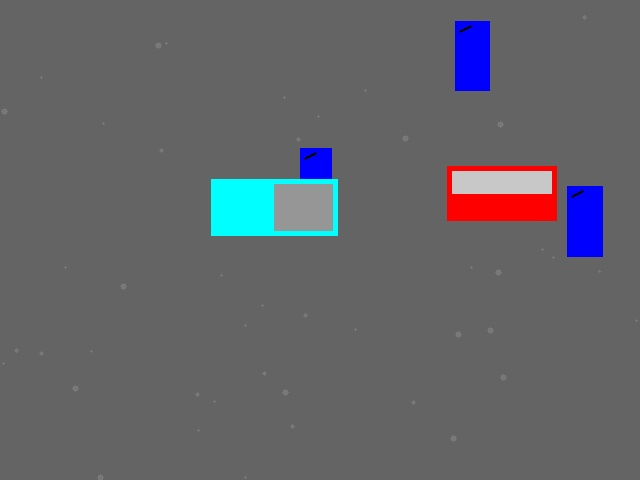car: (447, 166, 556, 220)
motorcycle: (567, 186, 602, 256), (455, 21, 489, 90), (300, 148, 331, 210)
truck: (211, 179, 337, 235)
